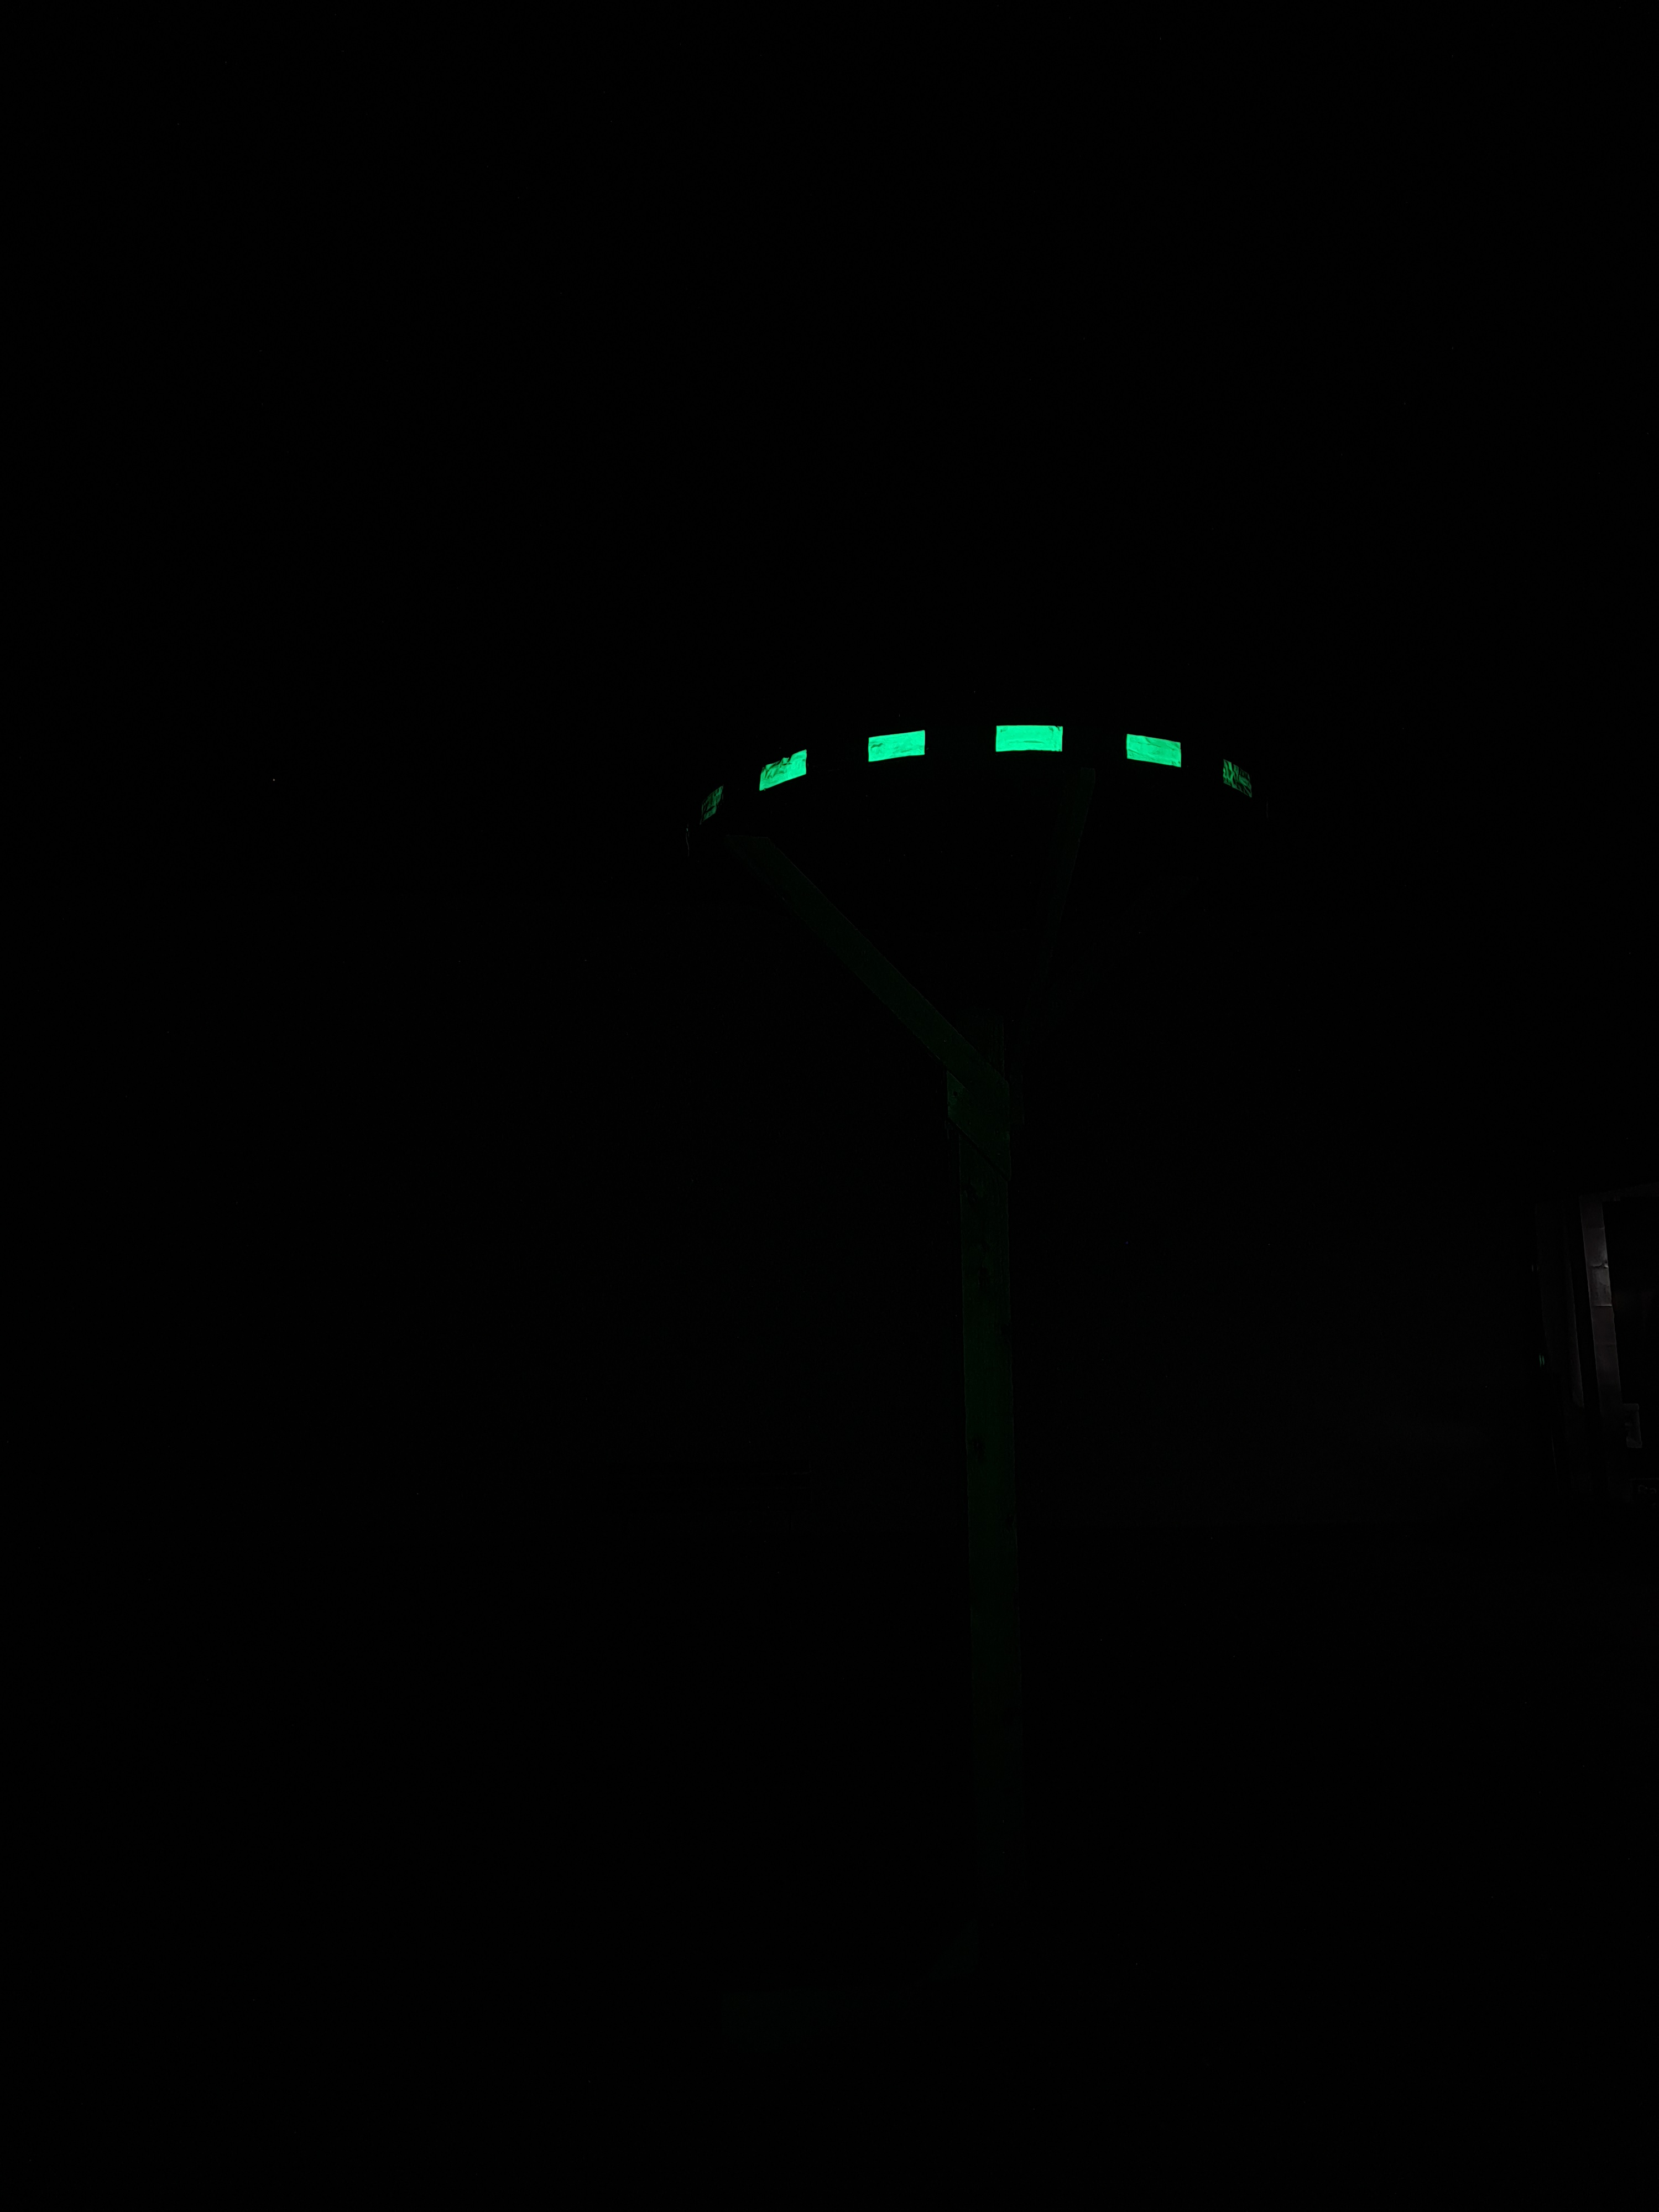hoop: (748, 711, 1260, 805)
